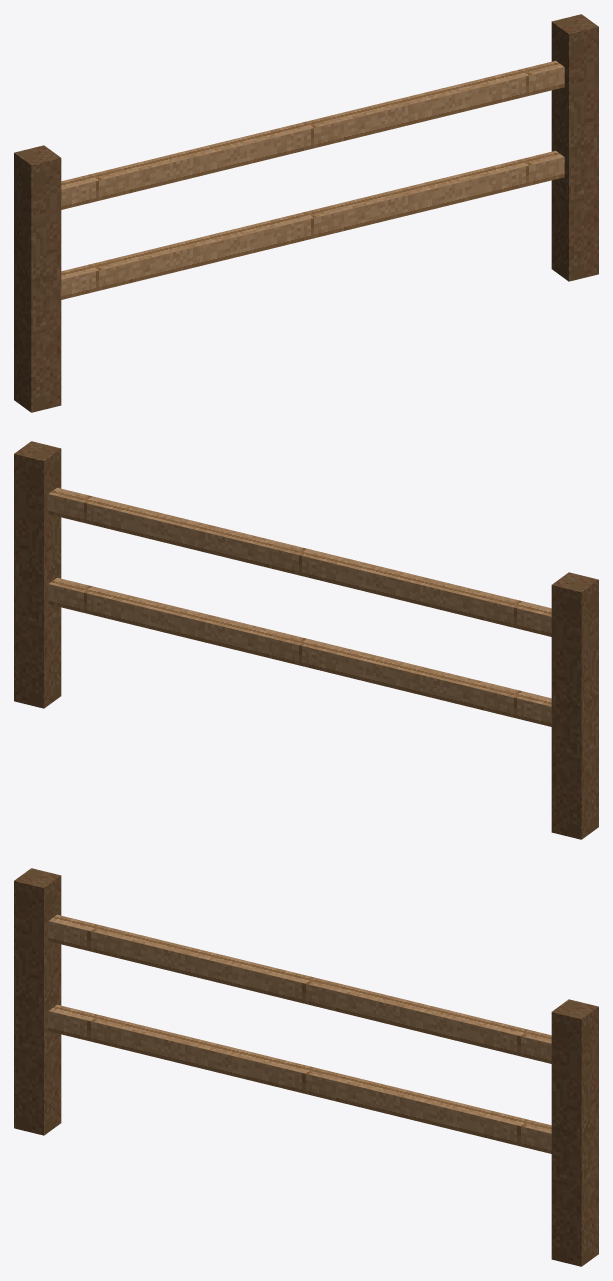
3 renders of one model, top to bottom at view 1: azimuth 30°, elevation 25°; view 2: azimuth 150°, elevation 25°; view 3: azimuth 330°, elevation 25°, orthographic.
Visible parts, largest first — view 1: Decor_fence_panel; view 2: Decor_fence_panel; view 3: Decor_fence_panel.
Boxes of the visible parts, x1,y1,x2,y2 form: Decor_fence_panel: (14,14,598,412); Decor_fence_panel: (14,441,598,839); Decor_fence_panel: (14,868,598,1266).
Bounding box in the file's own units: 2.64 × 1.1 × 0.14.
Materials: 2 (2 with a texture image).
